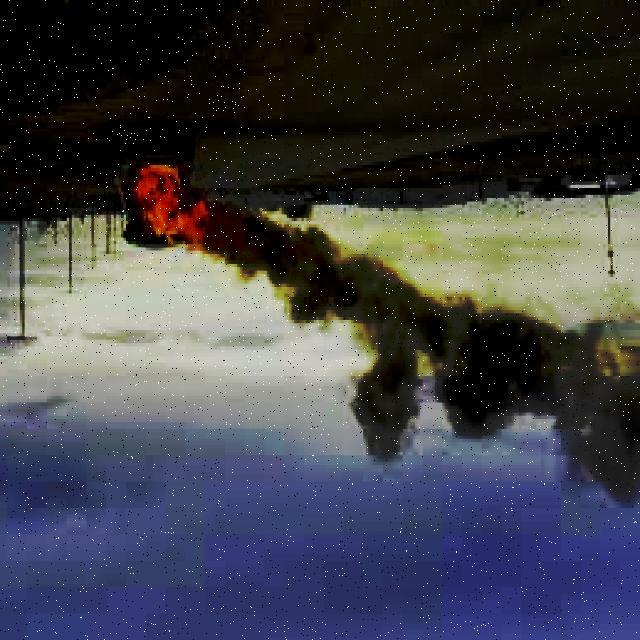api: (110, 146, 266, 268)
